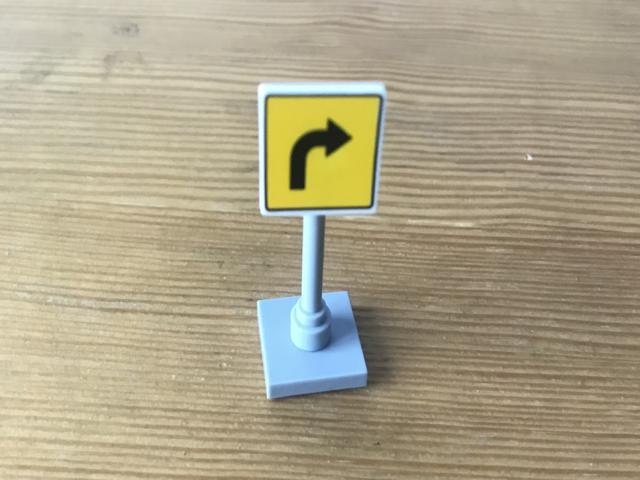fahrtrichtung rechts: (260, 89, 385, 218)
